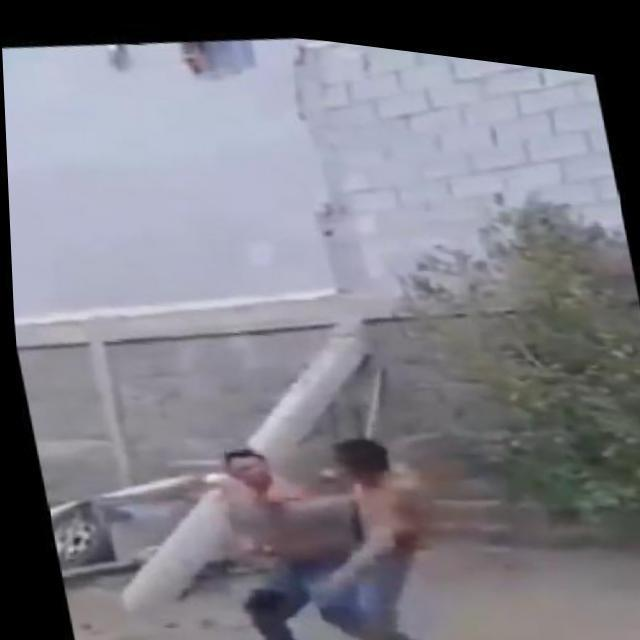fight: (200, 405, 460, 640)
